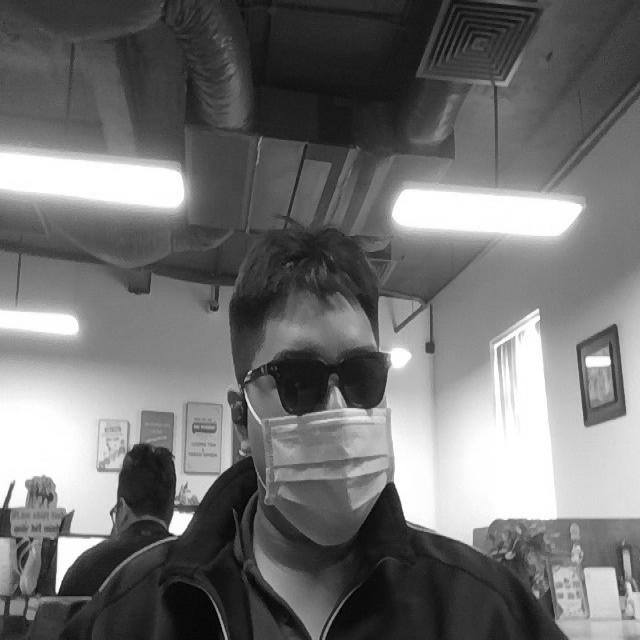fake: (262, 403, 397, 550), (249, 348, 398, 424)
